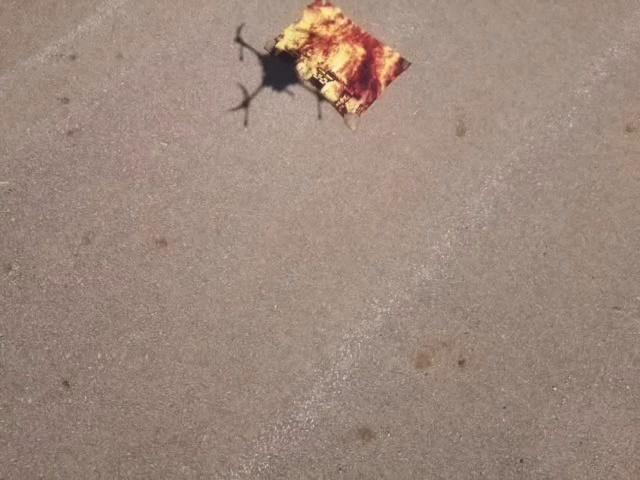fire-poster: (265, 0, 413, 132)
